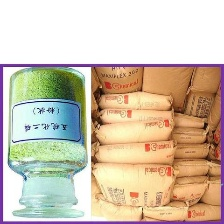insecticide: (6, 63, 87, 220)
